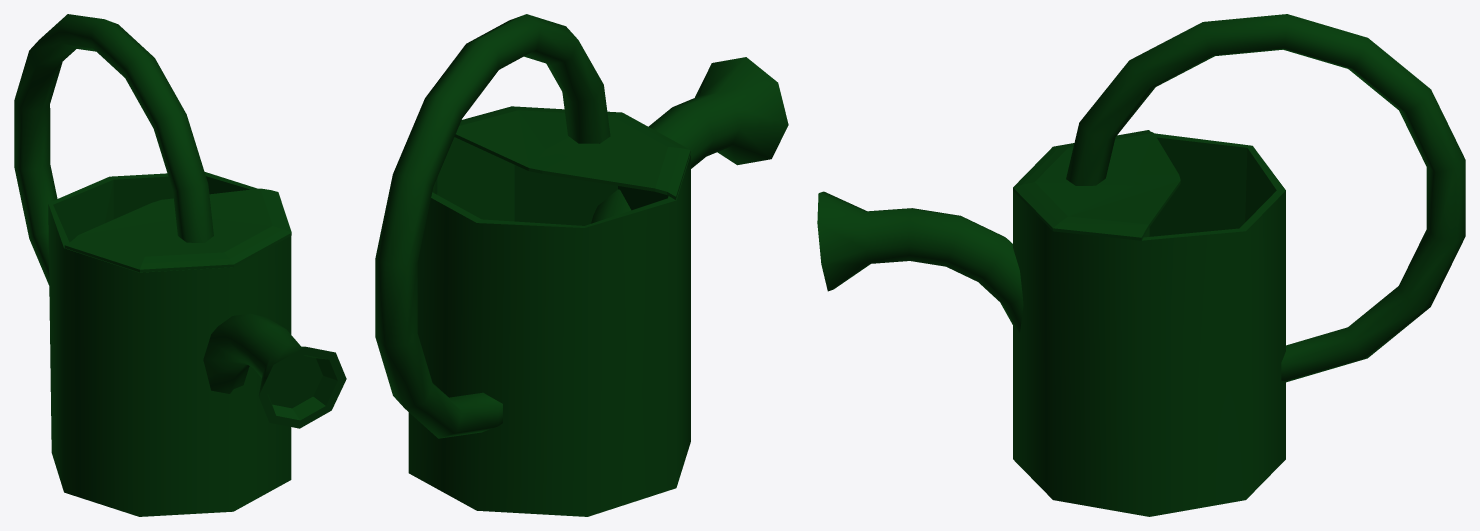
The model's file is WateringcanLowPoly.FBX.
3 renders of one model, left to right at view 1: azimuth 30°, elevation 25°; view 2: azimuth 150°, elevation 25°; view 3: azimuth 270°, elevation 25°, orthographic. The views are drawn at different scales.
Visible parts, largest first — view 1: Arrosoir; view 2: Arrosoir; view 3: Arrosoir.
Part boxes in pixels (<box>): Arrosoir: <box>14,14,346,516</box>; Arrosoir: <box>375,14,788,516</box>; Arrosoir: <box>817,14,1465,516</box>.
Bounding box in the file's own units: 11.49 × 20.57 × 27.28.
